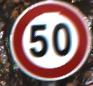Speed Limit -50-: (0, 1, 92, 85)
